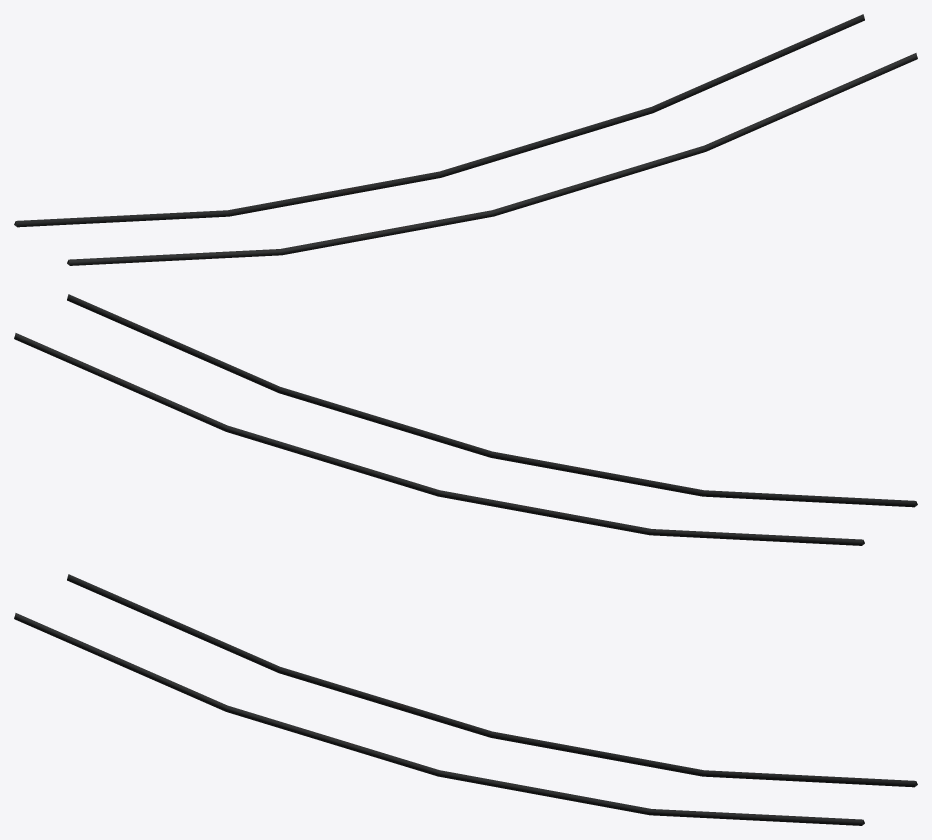
The model's file is Stage-gongchang-dianxian.FBX.
3 renders of one model, top to bottom at view 1: azimuth 30°, elevation 25°; view 2: azimuth 150°, elevation 25°; view 3: azimuth 330°, elevation 25°, orthographic.
Parts seen in each view (by area): view 1: Object50; view 2: Object50; view 3: Object50.
Boxes of the visible parts, x1,y1,x2,y2 form: Object50: [14, 14, 917, 265]; Object50: [14, 294, 917, 545]; Object50: [14, 574, 917, 825].
Size of the model in its own units: 16.97 by 1.95 by 1.13.
